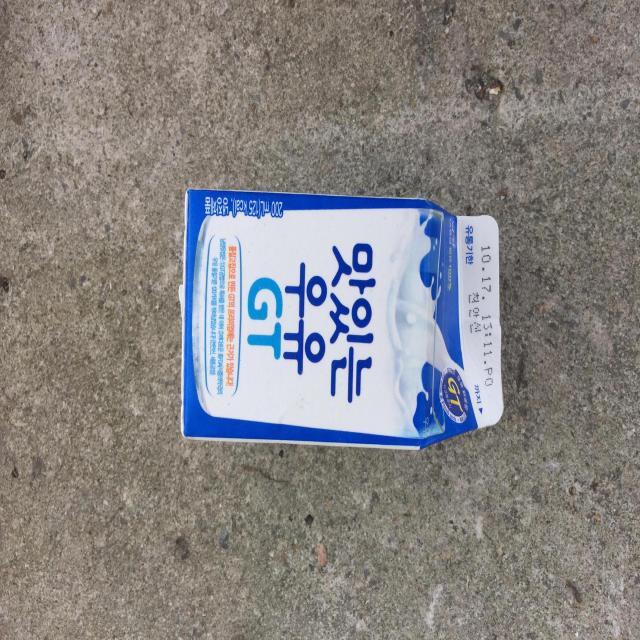paperpack: (180, 189, 504, 450)
